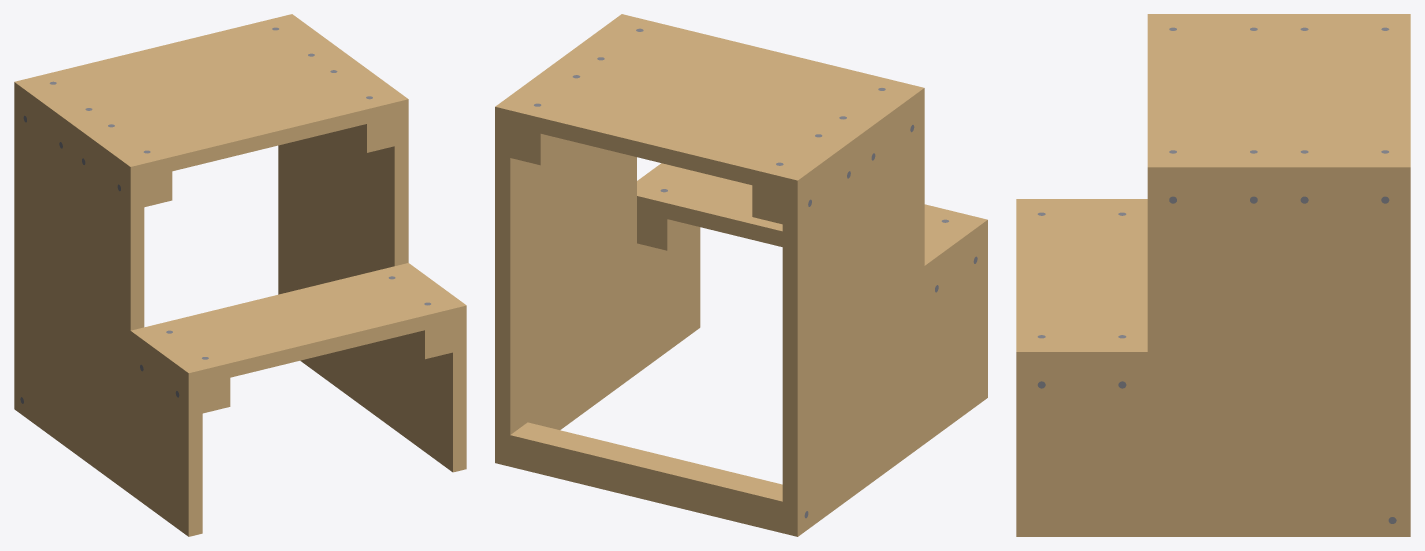
The picture shows the model from 3 angles, left to right: view 1: azimuth 30°, elevation 25°; view 2: azimuth 150°, elevation 25°; view 3: azimuth 270°, elevation 25°; orthographic projection. The views are drawn at different scales.
Parts seen in each view (by area): view 1: side_mid_1, side_back_1, tread_hi_1, tread_lo, side_mid_2, tread_hi_2, side_front_1, side_back_2, side_front_2, cleat_hi_2, cleat_lo_2, cleat_lo_1 (+1 smaller); view 2: side_back_1, side_mid_1, side_back_2, tread_hi_2, tread_hi_1, side_mid_2, brace, side_front_1, tread_lo, side_front_2, cleat_hi_2, cleat_lo_2 (+1 smaller); view 3: side_mid_2, side_back_2, side_front_2, tread_hi_1, tread_lo, tread_hi_2, side_mid_1, side_front_1, side_back_1.
Part boxes in pixels (x1,y1,x2,y2): side_mid_1: (72, 121, 144, 493); side_back_1: (14, 78, 85, 451); tread_hi_1: (86, 60, 394, 177); tread_lo: (145, 266, 452, 384); side_mid_2: (336, 56, 408, 429); tread_hi_2: (28, 17, 335, 120); side_front_1: (130, 327, 202, 536); side_back_2: (278, 14, 349, 386); side_front_2: (394, 263, 466, 472); cleat_hi_2: (337, 117, 394, 152); cleat_lo_2: (395, 323, 452, 359); cleat_lo_1: (202, 378, 230, 413); side_back_1: (782, 130, 861, 536); side_mid_1: (846, 84, 924, 489); side_back_2: (495, 60, 573, 466); tread_hi_2: (510, 64, 845, 192); tread_hi_1: (574, 17, 908, 130); side_mid_2: (559, 14, 636, 419); brace: (510, 422, 782, 533); side_front_1: (924, 216, 987, 443); tread_lo: (637, 167, 972, 250); side_front_2: (637, 163, 700, 373); cleat_hi_2: (510, 126, 572, 165); cleat_lo_2: (637, 212, 699, 250); side_mid_2: (1147, 159, 1279, 536); side_back_2: (1279, 159, 1410, 536); side_front_2: (1016, 344, 1147, 536); tread_hi_1: (1147, 21, 1279, 159); tread_lo: (1016, 206, 1147, 344); tread_hi_2: (1279, 21, 1410, 159); side_mid_1: (1147, 14, 1279, 21); side_front_1: (1016, 199, 1147, 206); side_back_1: (1279, 14, 1410, 21).
Bounding box in the file's own units: 400 × 450 × 435.
